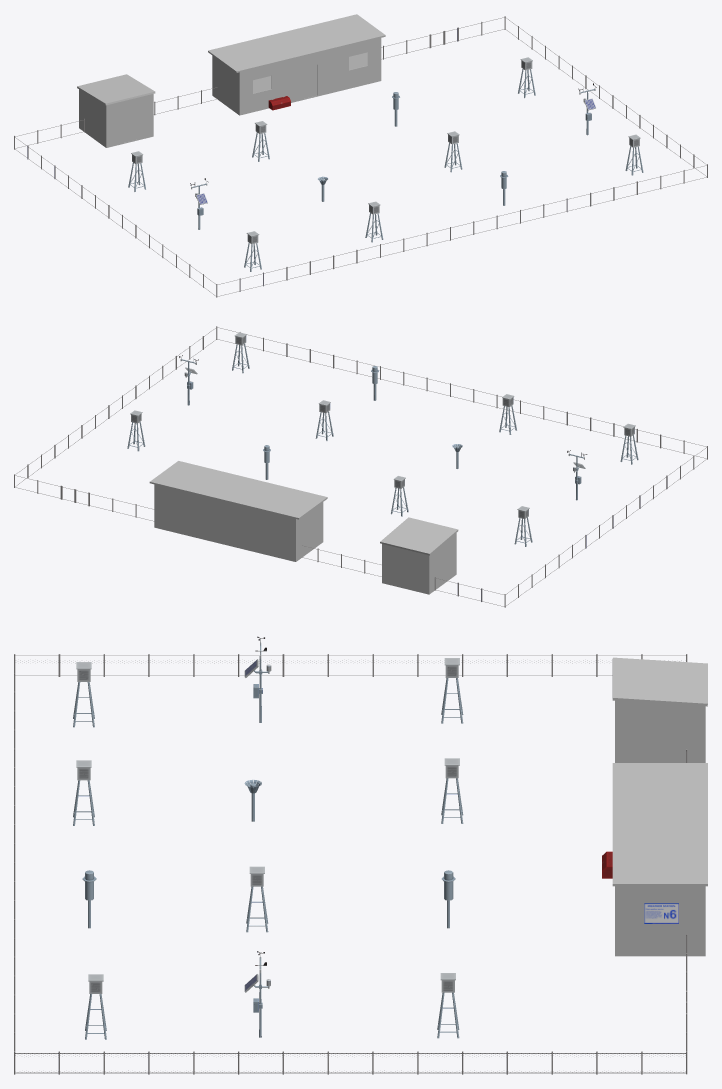
Rendered from Meteoestacion06.fbx.
3 views of the same model, one above another, from view 1: azimuth 30°, elevation 25°; view 2: azimuth 150°, elevation 25°; view 3: azimuth 270°, elevation 25° (orthographic). The views are drawn at different scales.
Parts seen in each view (by area): view 1: changeHaus01.002, changeHaus04.001, fence.068, changeHaus01.004, changeHaus04.002, door; view 2: changeHaus01.002, changeHaus04.001, fence.068, changeHaus01.004, changeHaus04.002; view 3: changeHaus04.001, fence.068, changeHaus01.002, changeHaus01.004, changeHaus04.002, tabl01.001.
Part boxes in pixels (<box>): changeHaus01.002: <box>212,38,381,114</box>; changeHaus04.001: <box>208,14,385,72</box>; fence.068: <box>14,16,707,297</box>; changeHaus01.004: <box>79,89,153,147</box>; changeHaus04.002: <box>77,74,155,105</box>; door: <box>303,65,317,98</box>; changeHaus01.002: <box>154,484,323,561</box>; changeHaus04.001: <box>149,461,327,519</box>; fence.068: <box>14,326,707,607</box>; changeHaus01.004: <box>382,533,456,593</box>; changeHaus04.002: <box>380,517,458,555</box>; changeHaus04.001: <box>612,763,707,886</box>; fence.068: <box>14,654,687,1074</box>; changeHaus01.002: <box>615,886,705,954</box>; changeHaus01.004: <box>615,700,705,762</box>; changeHaus04.002: <box>612,657,707,706</box>; tabl01.001: <box>644,903,678,923</box>.
Bounding box in the file's own units: 4154 × 393 × 3061.
